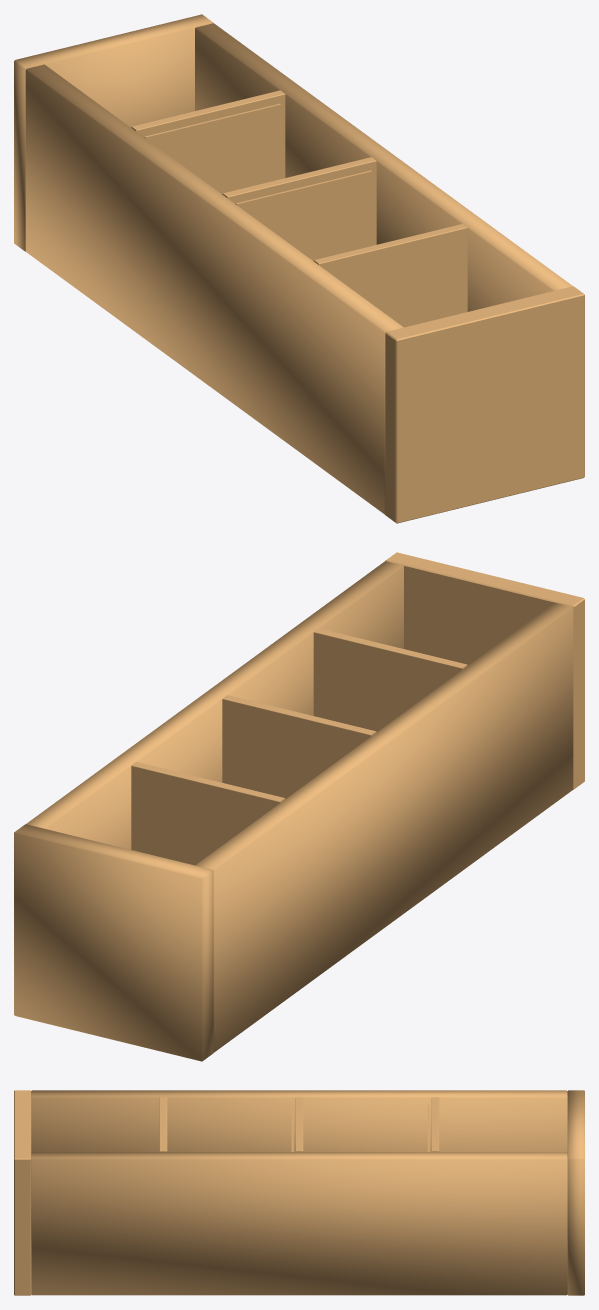
The model's file is MeshRobothorShelvingUnitKallaxLarge_0.obj.
3 renders of one model, top to bottom at view 1: azimuth 30°, elevation 25°; view 2: azimuth 150°, elevation 25°; view 3: azimuth 270°, elevation 25°, orthographic. The views are drawn at different scales.
Parts seen in each view (by area): view 1: RobothorShelvingUnitKallaxLarge; view 2: RobothorShelvingUnitKallaxLarge; view 3: RobothorShelvingUnitKallaxLarge.
Boxes of the visible parts, x1,y1,x2,y2 form: RobothorShelvingUnitKallaxLarge: (14,14,584,523); RobothorShelvingUnitKallaxLarge: (14,552,584,1061); RobothorShelvingUnitKallaxLarge: (14,1090,584,1295).
Size of the model in its own units: 0.4192 by 0.39 by 1.47.
